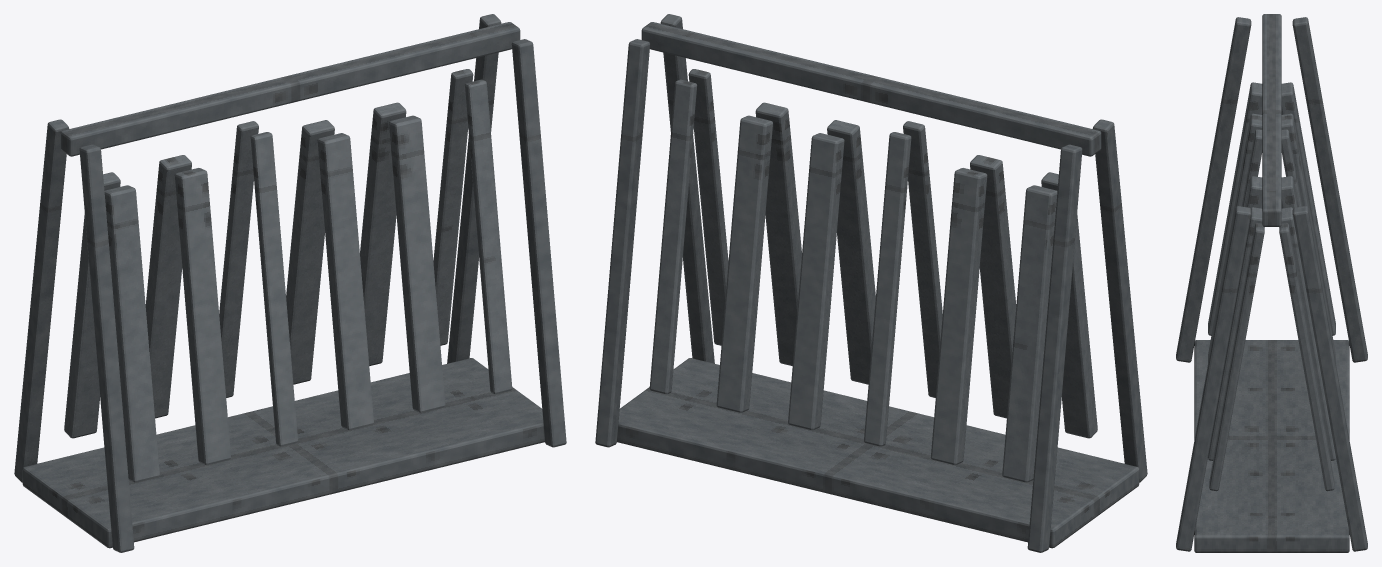
File: base_weapon_rack_stand.glb
3 views of the same model, side by side, from view 1: azimuth 30°, elevation 25°; view 2: azimuth 150°, elevation 25°; view 3: azimuth 270°, elevation 25° (orthographic). The views are drawn at different scales.
Visible parts, largest first — view 1: base_weapon_rack_stand; view 2: base_weapon_rack_stand; view 3: base_weapon_rack_stand.
Boxes of the visible parts, x1,y1,x2,y2 form: base_weapon_rack_stand: (14,14,566,552); base_weapon_rack_stand: (595,14,1147,552); base_weapon_rack_stand: (1176,14,1367,552).
Bounding box in the file's own units: 2.4 × 1.95 × 0.9858.
2 materials, 2 textured.
